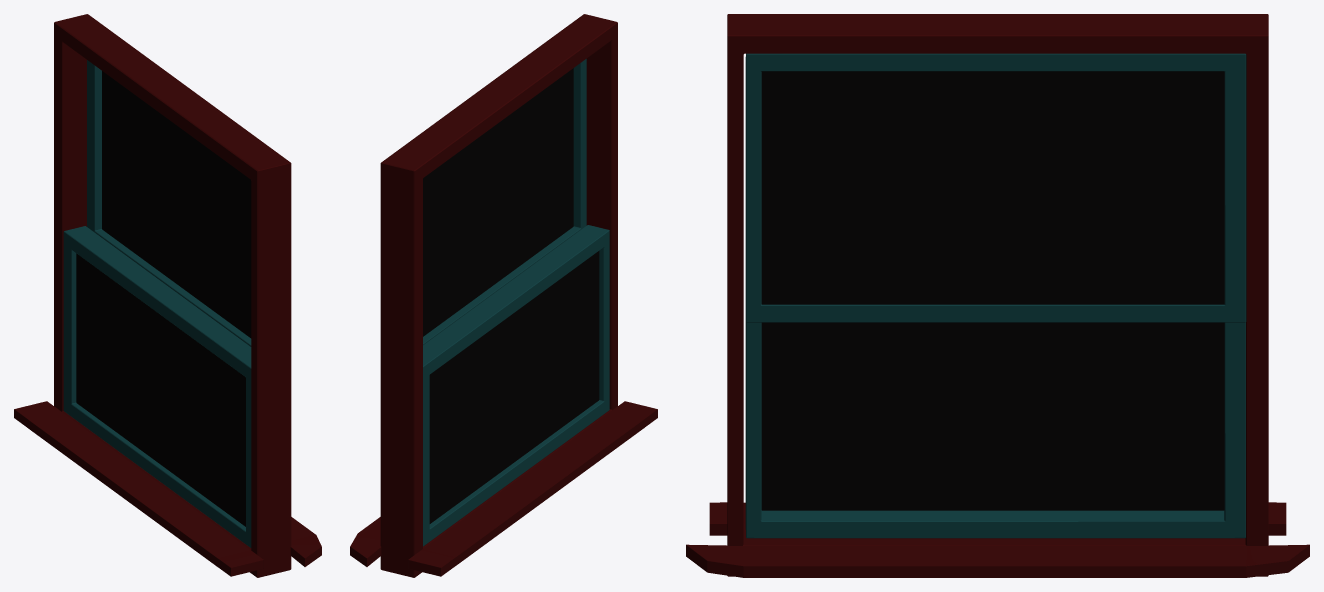
Rendered from window.obj.
The picture shows the model from 3 angles, left to right: view 1: azimuth 30°, elevation 25°; view 2: azimuth 150°, elevation 25°; view 3: azimuth 270°, elevation 25°; orthographic projection. The views are drawn at different scales.
Parts seen in each view (by area): view 1: polySurface66; view 2: polySurface66; view 3: polySurface66.
Boxes of the visible parts, box(x1,y1,x2,y2) form: polySurface66: box(14, 14, 321, 577); polySurface66: box(350, 14, 657, 577); polySurface66: box(686, 14, 1309, 577).
Size of the model in its own units: 0.3636 by 1.44 by 1.51.
